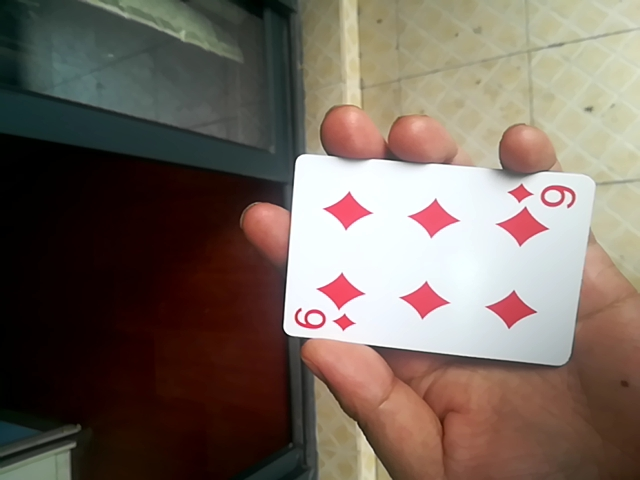fk 6: (279, 156, 602, 364)
